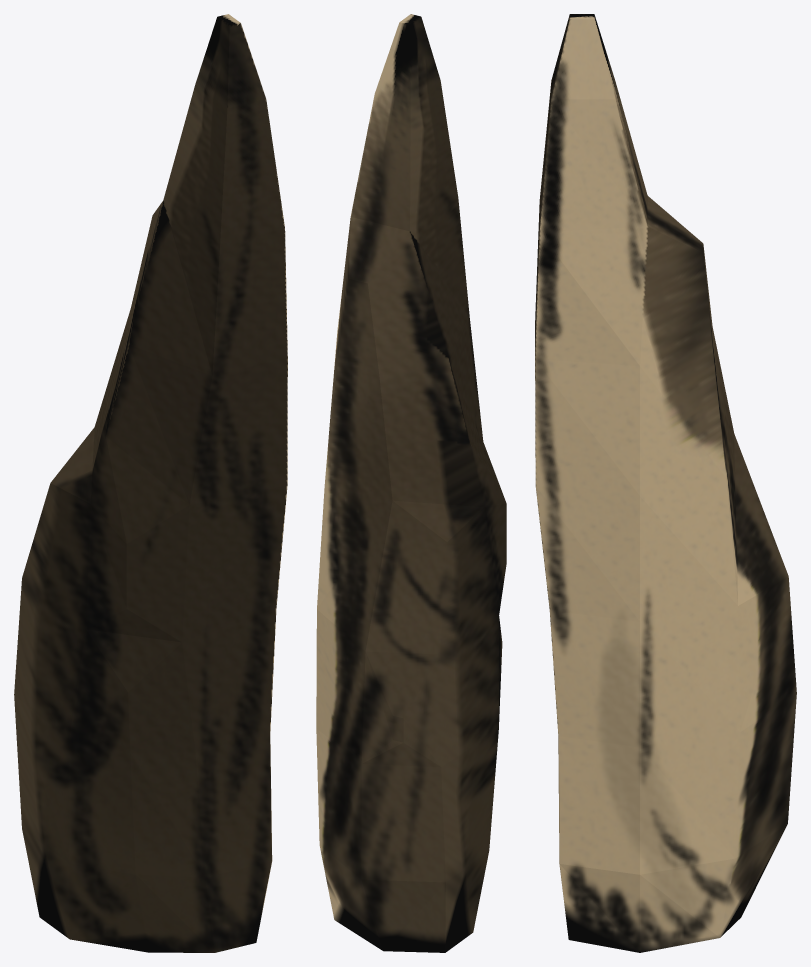
File: detail_jacket.glb
The picture shows the model from 3 angles, left to right: view 1: azimuth 30°, elevation 25°; view 2: azimuth 150°, elevation 25°; view 3: azimuth 270°, elevation 25°; orthographic projection. The views are drawn at different scales.
Parts seen in each view (by area): view 1: Jacket; view 2: Jacket; view 3: Jacket.
Boxes of the visible parts, <box> form: Jacket: <box>14,14,287,952</box>; Jacket: <box>316,14,506,952</box>; Jacket: <box>535,14,796,952</box>.
Size of the model in its own units: 0.015 by 0.0731 by 0.0186.
1 material, 1 textured.
